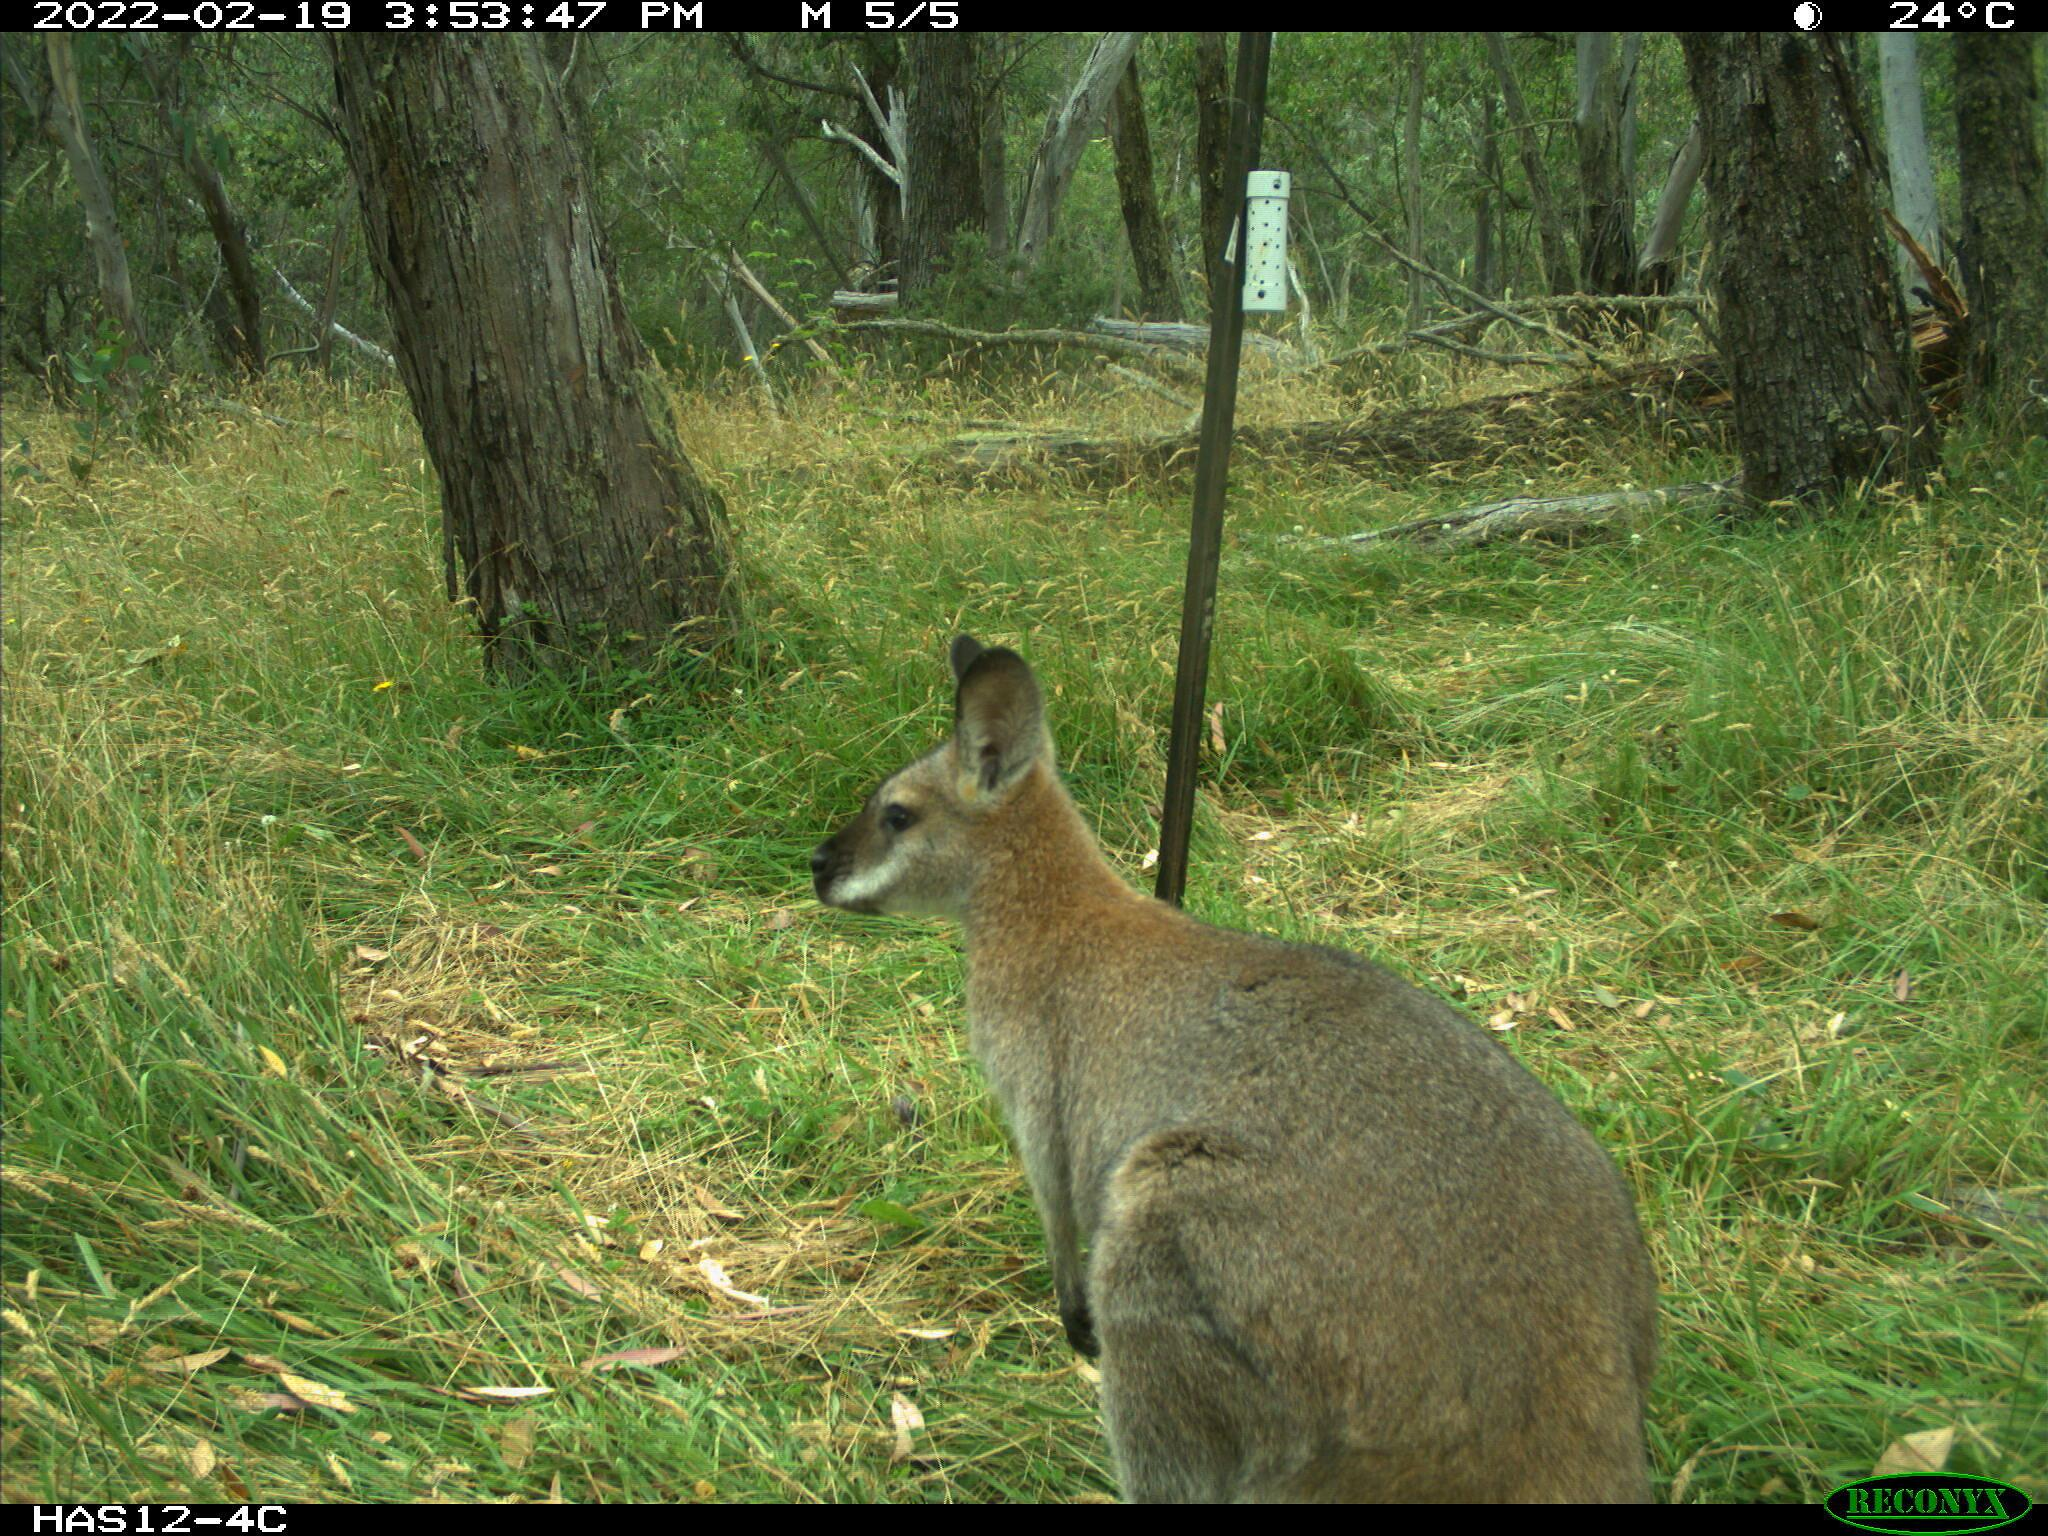Red-necked wallaby: (819, 636, 1674, 1492)
